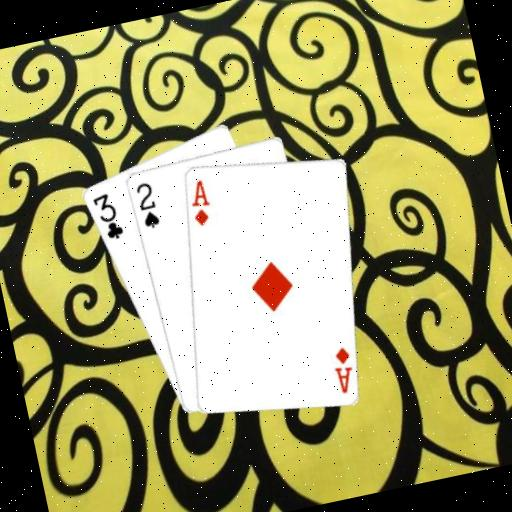2S: (131, 178, 162, 232)
3C: (87, 187, 126, 244)
AD: (182, 175, 215, 229), (326, 342, 359, 396)
